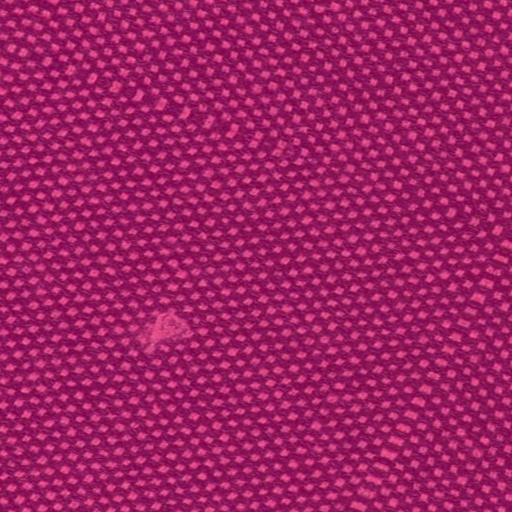knot: (136, 302, 201, 358)
